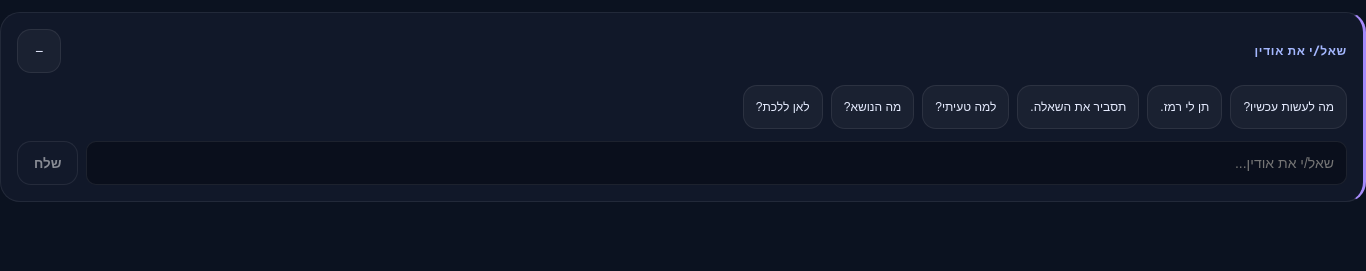
Test: AskOdinPanel (general educational assistant pass) › falls back to a clear message when nothing has been submitted yet
Click the button with test id "ask-odin-why-wrong" at (966, 107), box top-left (922, 85), bottom-right (1009, 129)
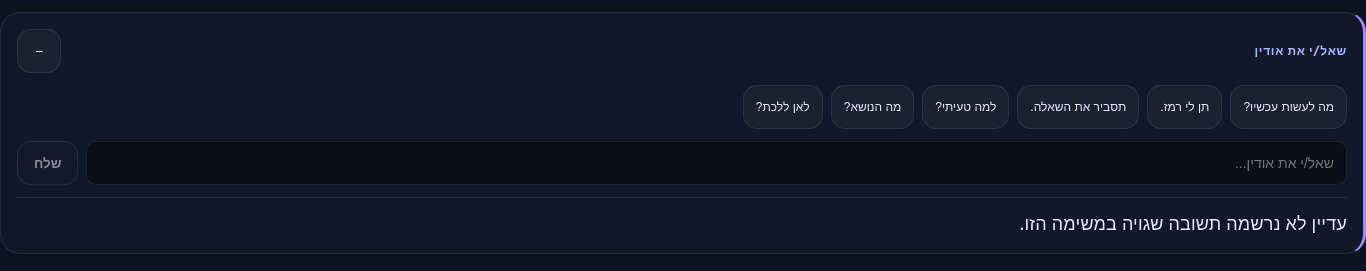
Now the text with test id "ask-odin-answer" reads "עדיין לא נרשמה תשובה שגויה במשימה הזו.", box top-left (1020, 211), bottom-right (1347, 235)
